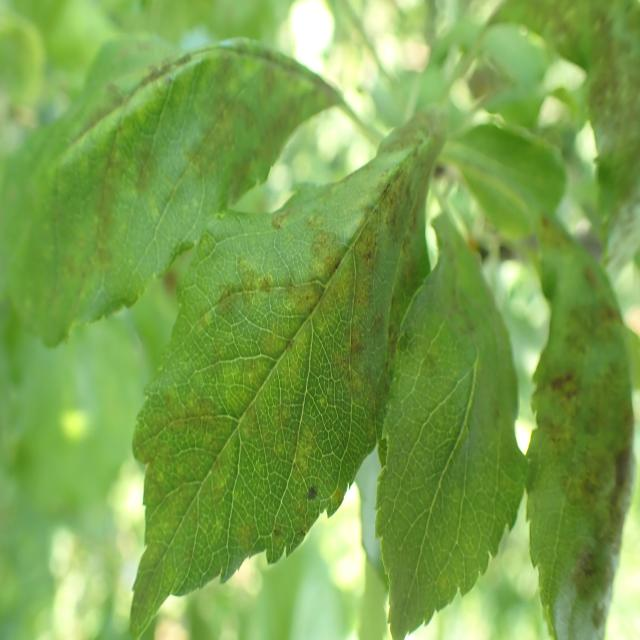scab: (138, 95, 436, 590), (32, 46, 344, 252), (534, 211, 640, 640), (386, 226, 518, 508), (542, 5, 640, 195)
